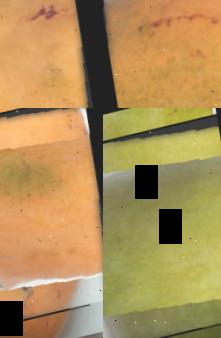PartiallyRipe: (103, 0, 221, 108)
Ripe: (0, 108, 103, 332), (0, 0, 103, 108)
Unripe: (103, 114, 221, 338)
